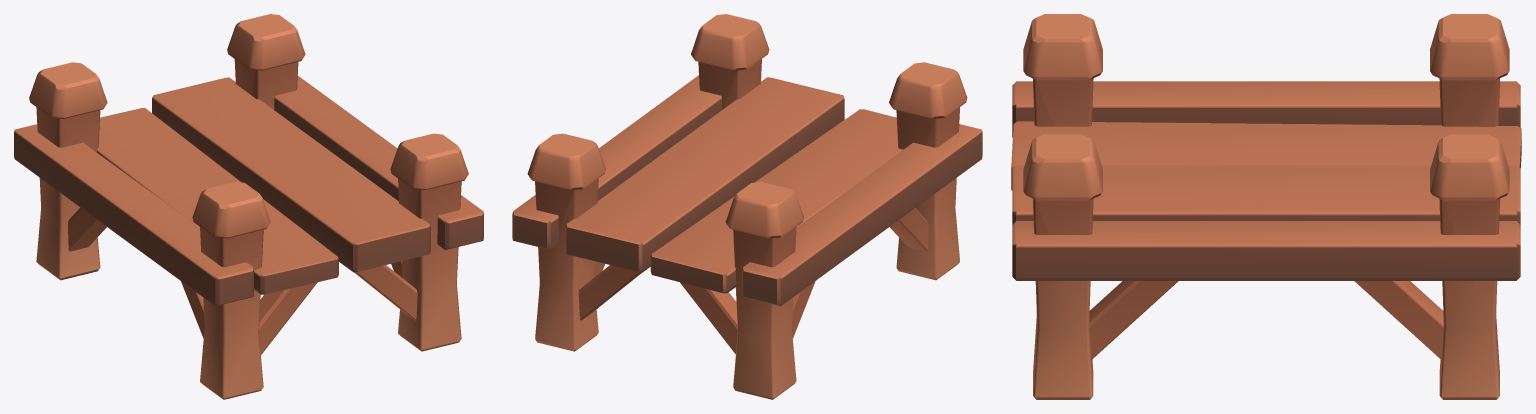
Rendered from kenney-pirate__structure-platform-dock-small.glb.
The picture shows the model from 3 angles, left to right: view 1: azimuth 30°, elevation 25°; view 2: azimuth 150°, elevation 25°; view 3: azimuth 270°, elevation 25°; orthographic projection. The views are drawn at different scales.
Parts seen in each view (by area): view 1: structure-platform-dock-small; view 2: structure-platform-dock-small; view 3: structure-platform-dock-small.
Part boxes in pixels (box(x1,y1,x2,y2)): structure-platform-dock-small: box(14, 14, 483, 399); structure-platform-dock-small: box(512, 14, 982, 399); structure-platform-dock-small: box(1011, 14, 1521, 399).
Size of the model in its own units: 1.9 by 1.31 by 2.51.
1 material, 1 textured.
